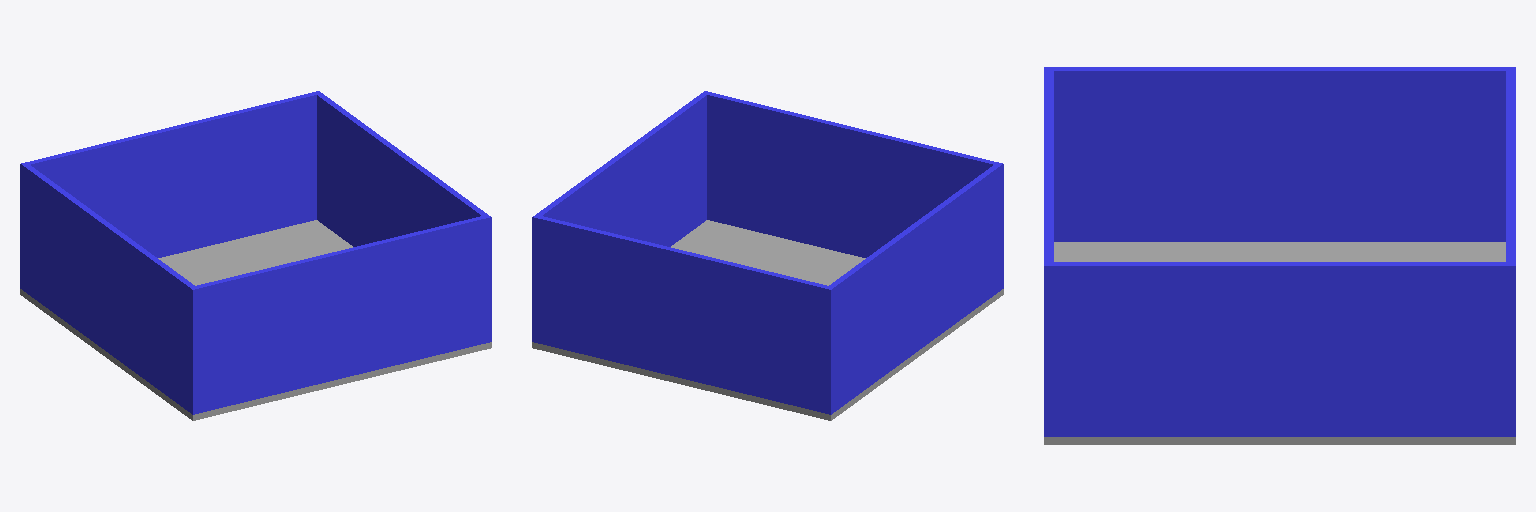
The robot description file, URDF, robot "bin":
<?xml version="1.0" ?>
<robot name="bin">
  <!-- Base -->
  <link name="base">
    <visual>
      <geometry><box size="1 1 0.02"/></geometry>
      <origin xyz="0 0 -0.01"/>
      <material name="gray"><color rgba="0.7 0.7 0.7 1"/></material>
    </visual>
    <collision>
      <geometry><box size="1 1 0.02"/></geometry>
      <origin xyz="0 0 -0.01"/>
    </collision>
    <inertial>
      <mass value="0"/>
      <inertia ixx="1" ixy="0" ixz="0" iyy="1" iyz="0" izz="1"/>
    </inertial>
  </link>

  <!-- Paredes unidas al link base -->

  <link name="wall_left">
    <visual>
      <geometry><box size="0.02 1 0.4"/></geometry>
      <origin xyz="-0.49 0 0.2"/>
      <material name="blue"><color rgba="0.3 0.3 1 1"/></material>
    </visual>
    <collision>
      <geometry><box size="0.02 1 0.4"/></geometry>
      <origin xyz="-0.49 0 0.2"/>
    </collision>
  </link>

  <joint name="joint_left" type="fixed">
    <parent link="base"/>
    <child link="wall_left"/>
    <origin xyz="0 0 0"/>
  </joint>

  <link name="wall_right">
    <visual>
      <geometry><box size="0.02 1 0.4"/></geometry>
      <origin xyz="0.49 0 0.2"/>
      <material name="blue"><color rgba="0.3 0.3 1 1"/></material>
    </visual>
    <collision>
      <geometry><box size="0.02 1 0.4"/></geometry>
      <origin xyz="0.49 0 0.2"/>
    </collision>
  </link>

  <joint name="joint_right" type="fixed">
    <parent link="base"/>
    <child link="wall_right"/>
    <origin xyz="0 0 0"/>
  </joint>

  <link name="wall_front">
    <visual>
      <geometry><box size="1 0.02 0.4"/></geometry>
      <origin xyz="0 0.49 0.2"/>
      <material name="blue"><color rgba="0.3 0.3 1 1"/></material>
    </visual>
    <collision>
      <geometry><box size="1 0.02 0.4"/></geometry>
      <origin xyz="0 0.49 0.2"/>
    </collision>
  </link>

  <joint name="joint_front" type="fixed">
    <parent link="base"/>
    <child link="wall_front"/>
    <origin xyz="0 0 0"/>
  </joint>

  <link name="wall_back">
    <visual>
      <geometry><box size="1 0.02 0.4"/></geometry>
      <origin xyz="0 -0.49 0.2"/>
      <material name="blue"><color rgba="0.3 0.3 1 1"/></material>
    </visual>
    <collision>
      <geometry><box size="1 0.02 0.4"/></geometry>
      <origin xyz="0 -0.49 0.2"/>
    </collision>
  </link>

  <joint name="joint_back" type="fixed">
    <parent link="base"/>
    <child link="wall_back"/>
    <origin xyz="0 0 0"/>
  </joint>

</robot>

--- Render facts (derived) ---
The picture shows the robot from 3 angles, left to right: view 1: azimuth 30°, elevation 25°; view 2: azimuth 150°, elevation 25°; view 3: azimuth 270°, elevation 25°; orthographic projection.
Model bin with 5 links and 4 joints (4 fixed), rooted at base, posed every joint at zero.
Visible links, largest first — view 1: wall_back, wall_front, wall_left, wall_right, base; view 2: wall_front, wall_back, wall_left, wall_right, base; view 3: wall_right, wall_left, base, wall_back, wall_front.
Boxes of the visible links, <box> form: wall_back: <box>190,215,491,412</box>; wall_front: <box>20,91,321,290</box>; wall_left: <box>20,162,198,414</box>; wall_right: <box>313,91,491,341</box>; base: <box>20,220,491,420</box>; wall_front: <box>532,216,834,413</box>; wall_back: <box>702,91,1003,288</box>; wall_left: <box>825,162,1003,414</box>; wall_right: <box>532,91,710,342</box>; base: <box>532,220,1003,420</box>; wall_right: <box>1044,262,1515,436</box>; wall_left: <box>1044,67,1515,241</box>; base: <box>1044,242,1515,444</box>; wall_back: <box>1044,67,1053,436</box>; wall_front: <box>1506,67,1515,435</box>.
Size in the robot's own frame: 1 by 1 by 0.42 metres.
Geometry: primitives only (box / cylinder / sphere), no mesh files.